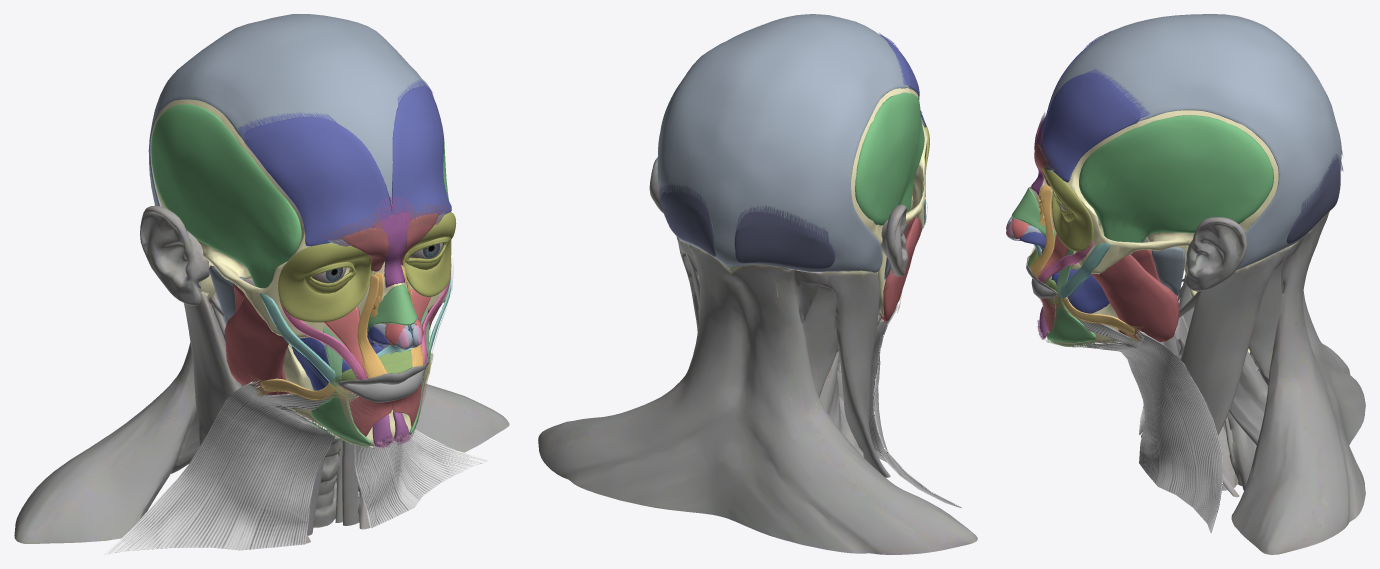
File: euro_muscle.glb
The picture shows the model from 3 angles, left to right: view 1: azimuth 30°, elevation 25°; view 2: azimuth 150°, elevation 25°; view 3: azimuth 270°, elevation 25°; orthographic projection. The views are drawn at different scales.
Parts seen in each view (by area): view 1: Mesh_Deform_0, Mesh_(2)_Static_0, Mesh_(3)_(2)_Plastyma_0, Skiedras3DC, Mesh__(2)_Acs_0, Mesh__(4)_AcsLeca_0; view 2: Mesh_(2)_Static_0, Mesh_Deform_0, Skiedras3DC, Mesh_(3)_(2)_Plastyma_0; view 3: Mesh_Deform_0, Mesh_(2)_Static_0, Mesh_(3)_(2)_Plastyma_0, Skiedras3DC.
Part boxes in pixels (x1,y1,x2,y2): Mesh_Deform_0: (148, 14, 456, 447); Mesh_(2)_Static_0: (14, 99, 509, 543); Mesh_(3)_(2)_Plastyma_0: (103, 373, 491, 554); Skiedras3DC: (238, 79, 453, 448); Mesh__(2)_Acs_0: (312, 243, 443, 283); Mesh__(4)_AcsLeca_0: (312, 243, 443, 283); Mesh_(2)_Static_0: (538, 88, 977, 554); Mesh_Deform_0: (657, 14, 929, 322); Skiedras3DC: (659, 33, 927, 312); Mesh_(3)_(2)_Plastyma_0: (869, 301, 961, 508); Mesh_Deform_0: (1006, 14, 1341, 343); Mesh_(2)_Static_0: (1030, 110, 1365, 554); Mesh_(3)_(2)_Plastyma_0: (1049, 287, 1223, 532); Skiedras3DC: (1029, 31, 1343, 347).
Bounding box in the file's own units: 0.4266 × 0.4 × 0.3075.
7 materials, 5 textured.
